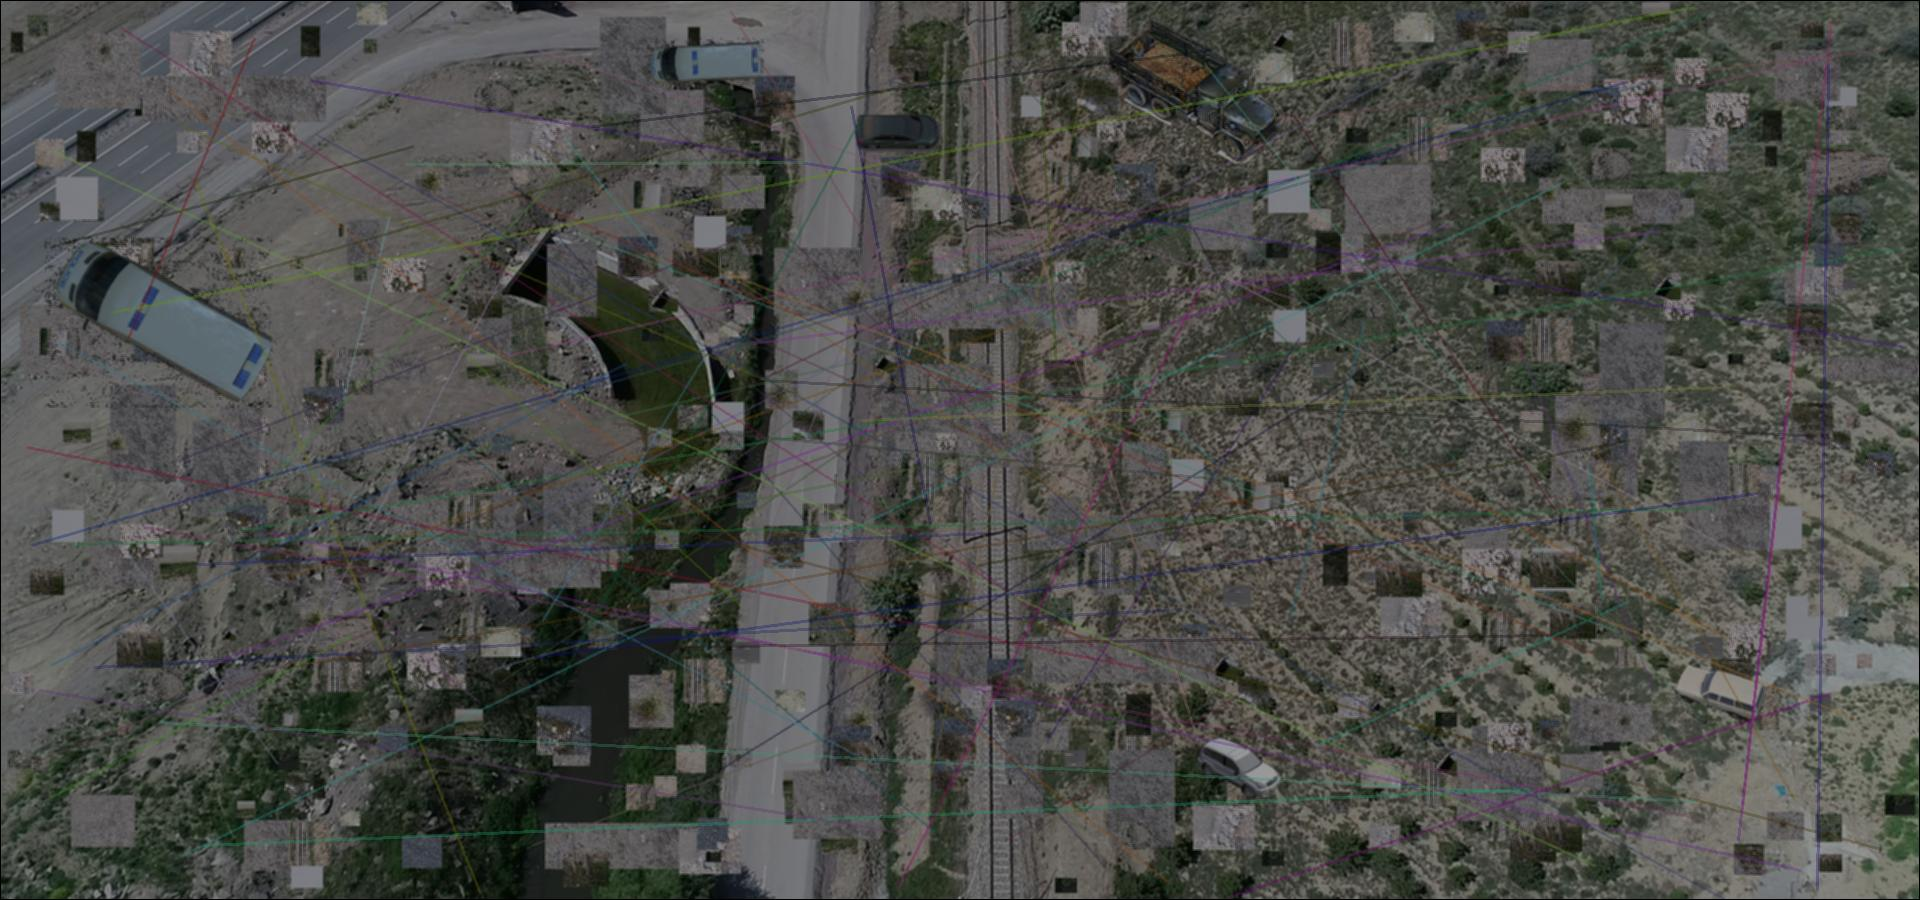arac: (45, 238, 272, 407), (1106, 16, 1286, 164), (1668, 662, 1766, 725), (647, 38, 764, 87), (1196, 735, 1282, 800), (852, 110, 947, 154)
